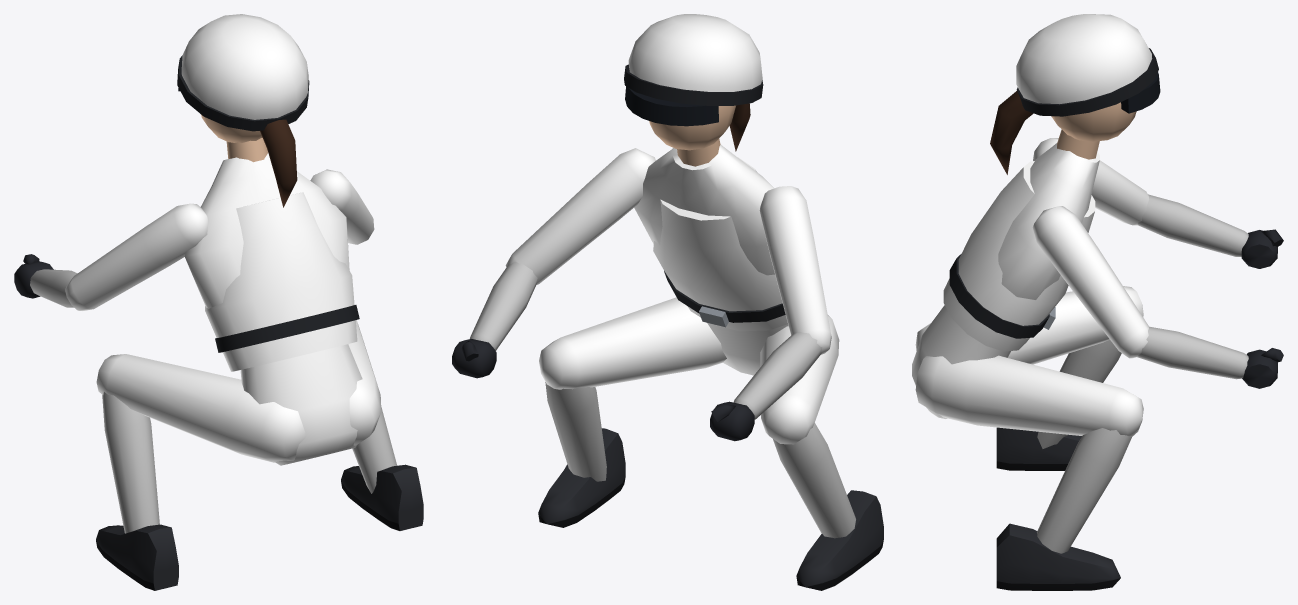
The model's file is ines.glb.
3 views of the same model, side by side, from view 1: azimuth 30°, elevation 25°; view 2: azimuth 150°, elevation 25°; view 3: azimuth 270°, elevation 25° (orthographic). The views are drawn at different scales.
Visible parts, largest first — view 1: Torso, Vest, ThighLeft, Helmet, UpperArmLeft, ShinLeft, BootLeft, BootRight, Strap1, ThighRight, UpperArmRight, Ponytail (+6 smaller); view 2: ThighRight, Torso, Vest, Helmet, UpperArmRight, UpperArmLeft, ShinLeft, BootLeft, ThighLeft, ShinRight, BootRight, ForearmLeft (+9 smaller); view 3: ThighRight, Torso, Helmet, Vest, UpperArmRight, BootRight, ShinRight, ThighLeft, ForearmLeft, ForearmRight, BootLeft, UpperArmLeft (+9 smaller).
Boxes of the visible parts, box(x1,y1,x2,y2) form: Torso: box(184, 153, 362, 465); Vest: box(205, 192, 357, 371); ThighLeft: box(96, 354, 305, 462); Helmet: box(181, 14, 308, 119); UpperArmLeft: box(65, 203, 207, 310); ShinLeft: box(102, 392, 159, 533); BootLeft: box(96, 524, 178, 590); BootRight: box(341, 464, 423, 530); Strap1: box(215, 305, 359, 352); ThighRight: box(348, 320, 381, 445); UpperArmRight: box(310, 169, 374, 244); Ponytail: box(260, 119, 297, 207); ThighRight: box(539, 297, 726, 389); Torso: box(634, 145, 788, 375); Vest: box(653, 157, 787, 331); Helmet: box(628, 14, 762, 91); UpperArmRight: box(505, 148, 655, 284); UpperArmLeft: box(759, 186, 831, 354); ShinLeft: box(773, 423, 855, 538); BootLeft: box(796, 490, 883, 590); ThighLeft: box(760, 315, 839, 444); ShinRight: box(545, 382, 606, 481); BootRight: box(538, 428, 625, 527); ForearmLeft: box(733, 332, 822, 419); ThighRight: box(915, 355, 1143, 436); Torso: box(912, 143, 1099, 418); Helmet: box(1016, 14, 1152, 104); Vest: box(943, 161, 1095, 351); UpperArmRight: box(1032, 206, 1148, 358); BootRight: box(996, 523, 1120, 590); ShinRight: box(1037, 428, 1131, 553); ThighLeft: box(915, 286, 1143, 364); ForearmLeft: box(1137, 194, 1248, 256); ForearmRight: box(1137, 326, 1248, 379); BootLeft: box(996, 427, 1081, 470); UpperArmLeft: box(1033, 138, 1149, 225).
Size of the model in its own units: 0.8232 by 1.29 by 0.8663.
